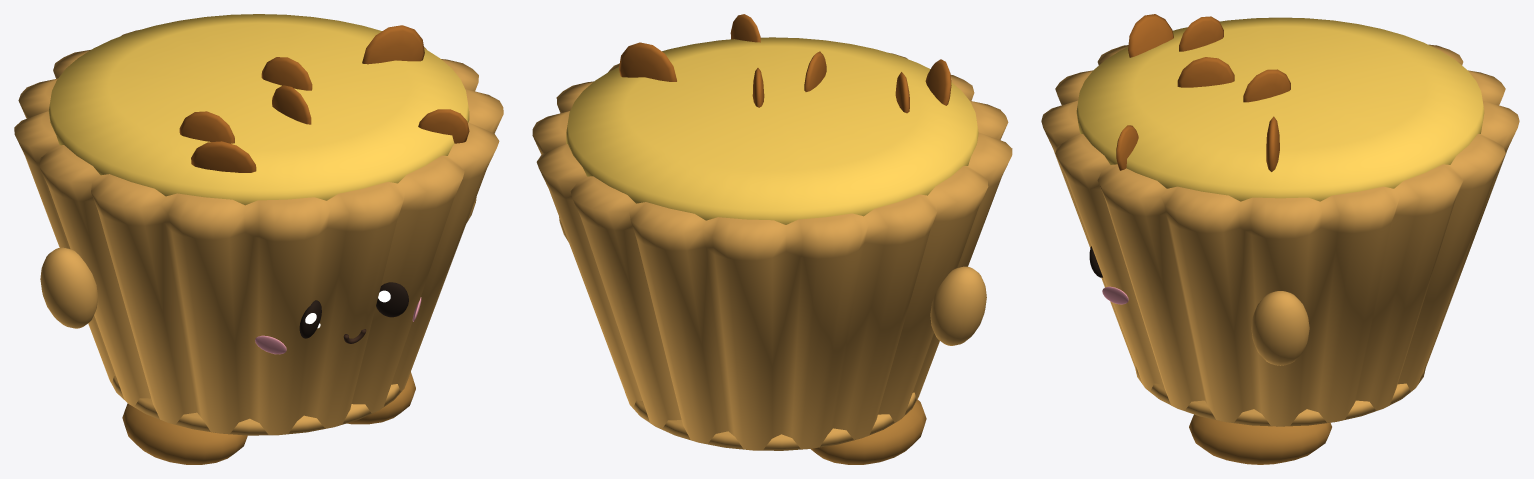
Rendered from tart.glb.
The picture shows the model from 3 angles, left to right: view 1: azimuth 30°, elevation 25°; view 2: azimuth 150°, elevation 25°; view 3: azimuth 270°, elevation 25°; orthographic projection. The views are drawn at different scales.
Visible parts, largest first — view 1: tart; view 2: tart; view 3: tart.
Part boxes in pixels (box(x1,y1,x2,y2)): tart: box(14, 14, 503, 464); tart: box(532, 14, 1012, 464); tart: box(1041, 14, 1519, 464).
Size of the model in its own units: 0.0723 by 0.0597 by 0.072.
